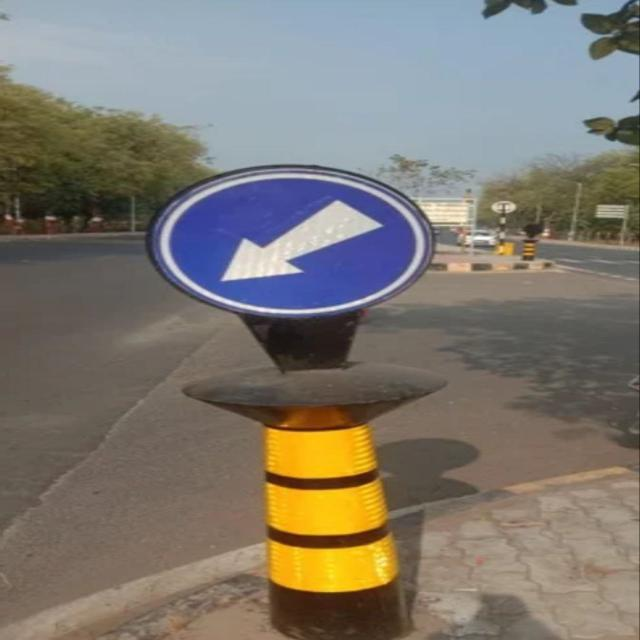compulsory_keep_left: (146, 152, 453, 328)
